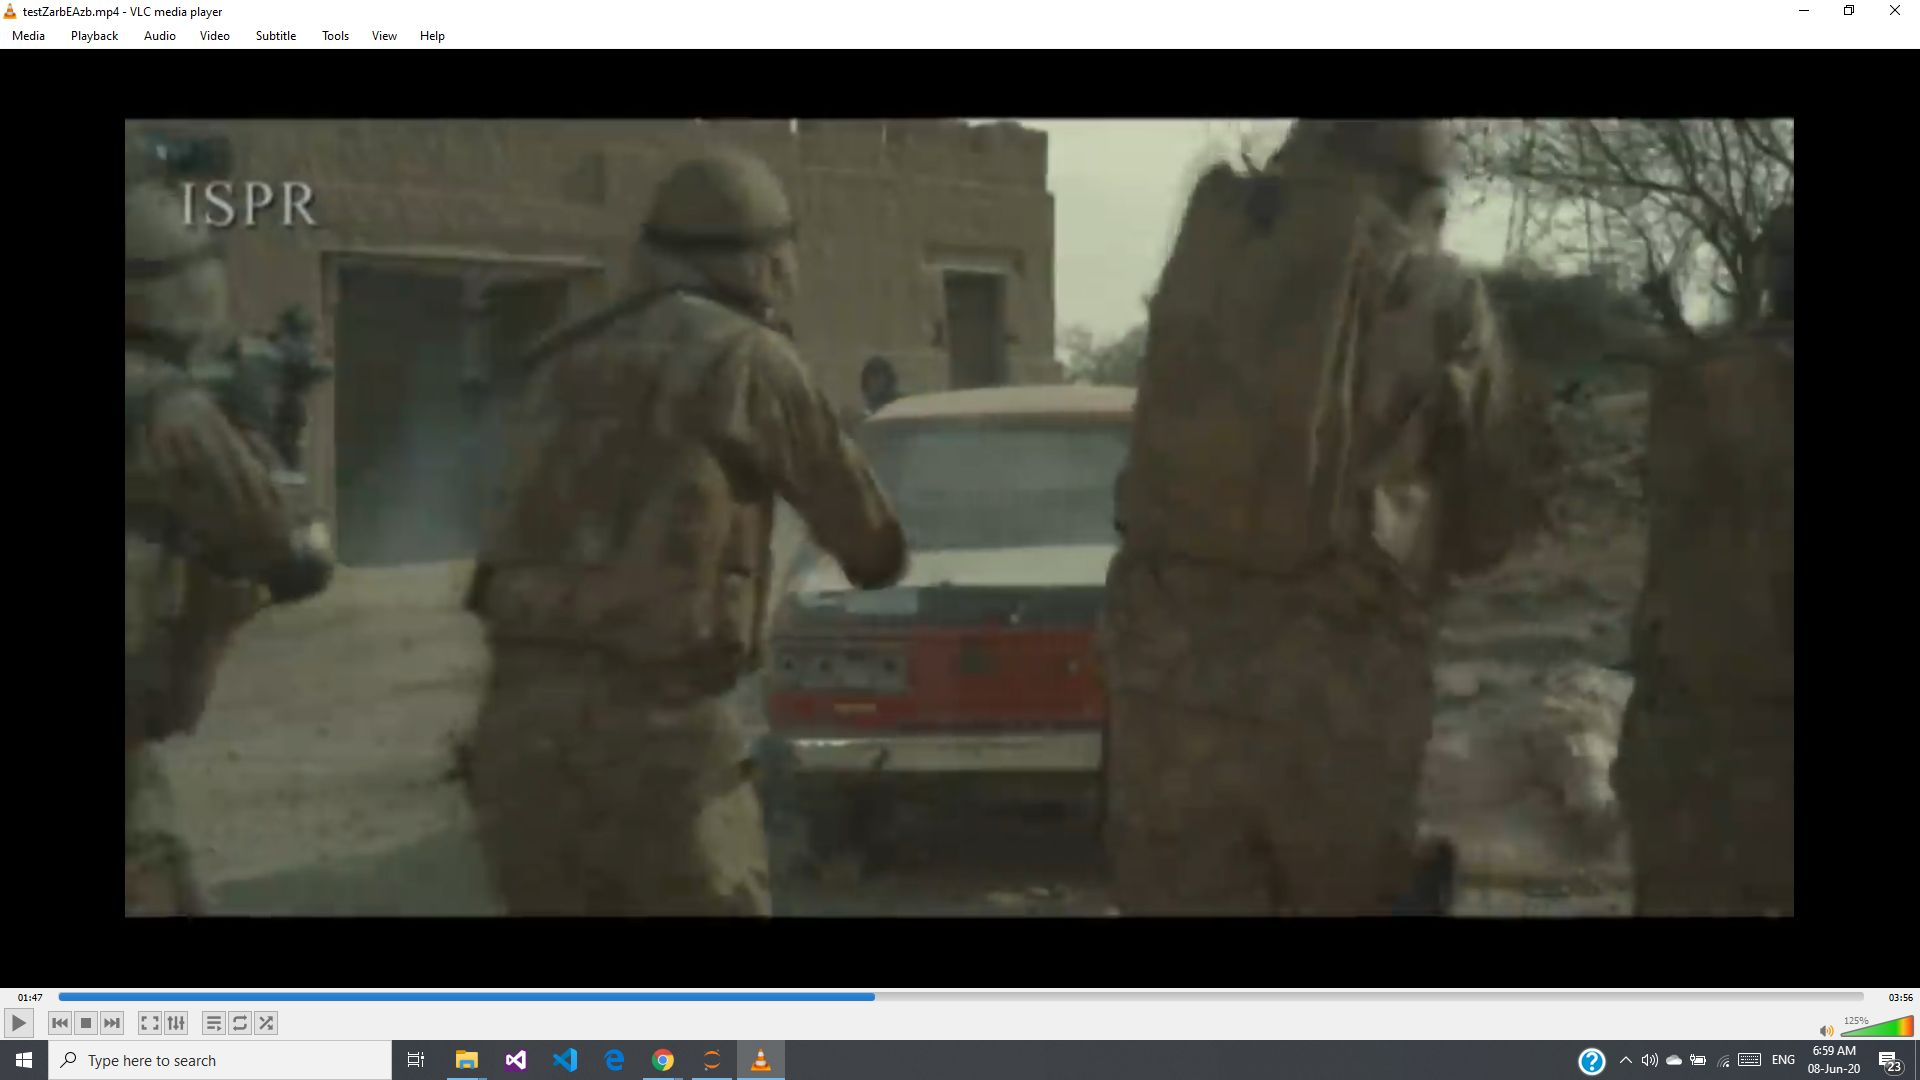uniform: (1097, 133, 1443, 916), (485, 158, 778, 913), (117, 179, 345, 934), (1576, 179, 1793, 919)
